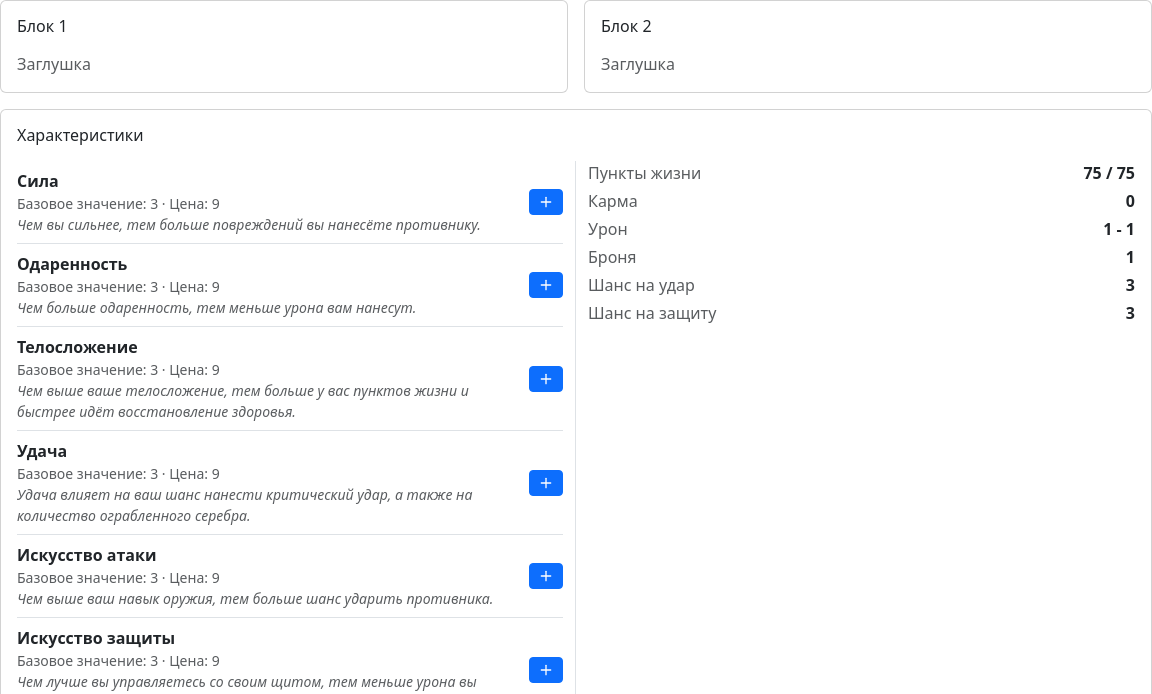
Test: StatsPage › ответ сервера «не хватает серебра»: ошибка и перезагрузка профиля
The image size is (1152, 694).
Click the button named "Повысить характеристику «Сила» за 9 серебра" at (546, 202), box [529,189,563,215]
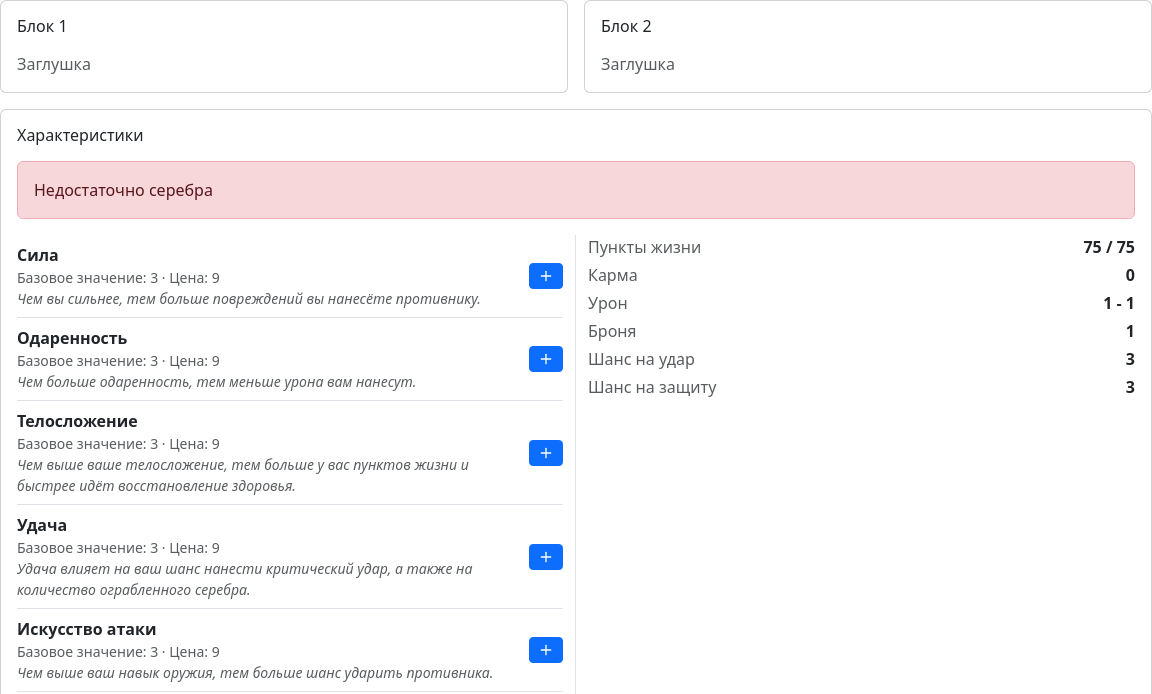
Check: the message reads "Недостаточно серебра", box [34,179,213,201]
